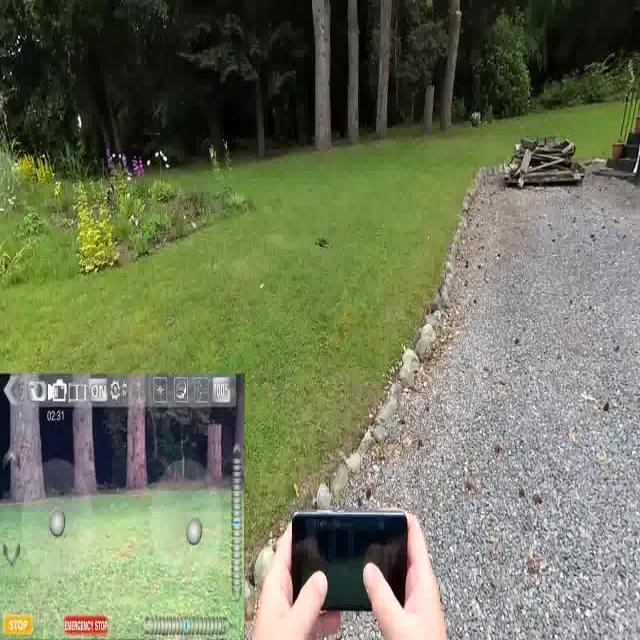drones: (314, 231, 334, 259)
